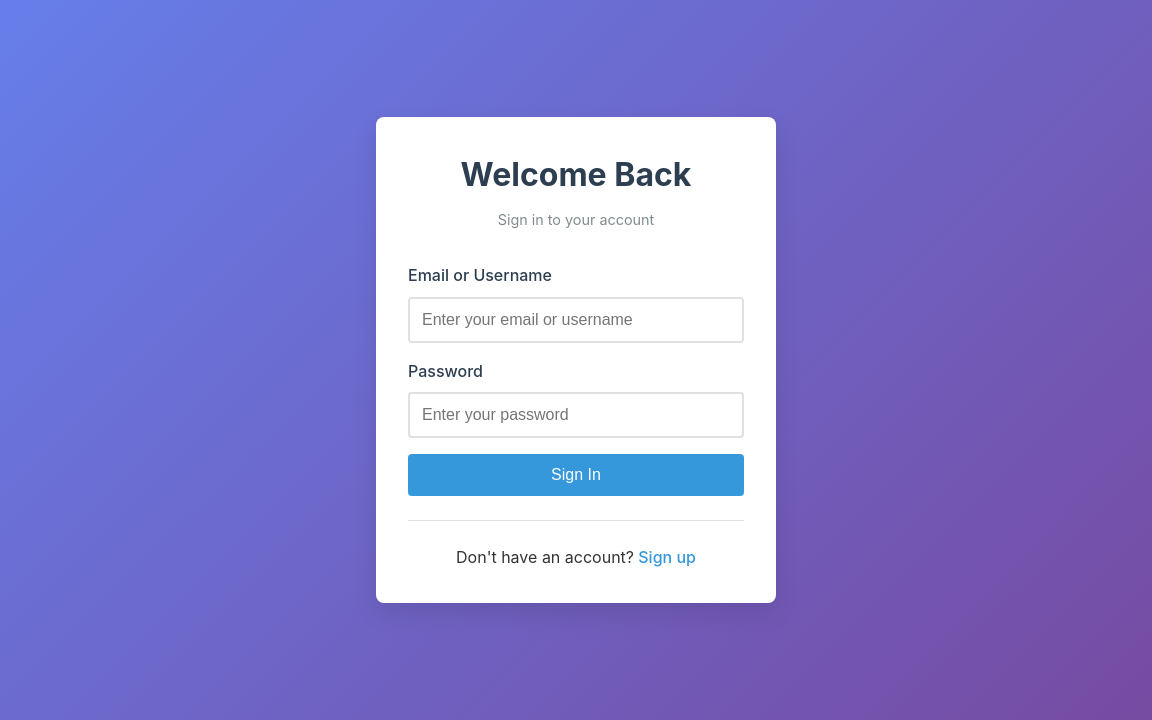
Test: Login Page › validates required fields
The width and height of the screenshot is (1152, 720).
Click the button "Sign In" at (576, 475), box top-left (408, 454), bottom-right (744, 496)
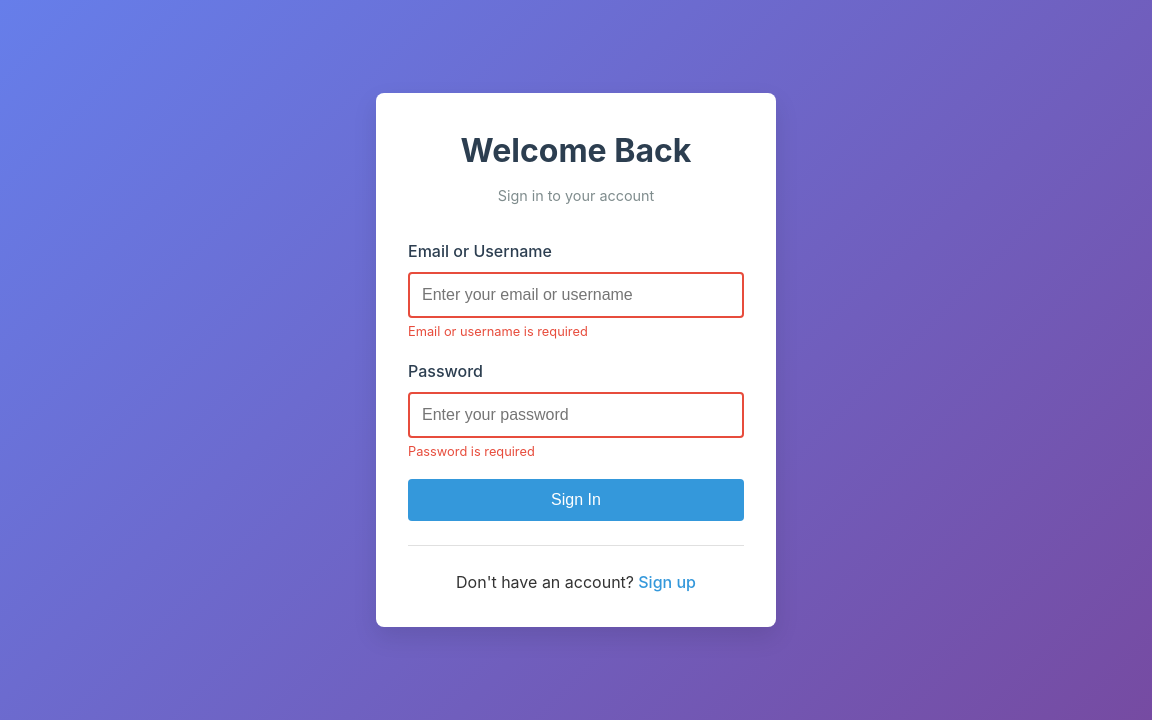
Now the text "Email or username is required" is shown, box top-left (408, 324), bottom-right (588, 339)
Now the text "Password is required" is shown, box top-left (408, 444), bottom-right (535, 459)
